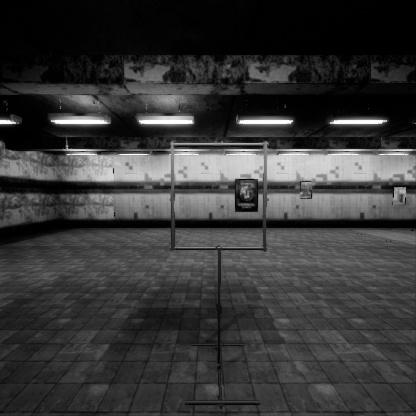gate: (171, 164, 277, 273)
